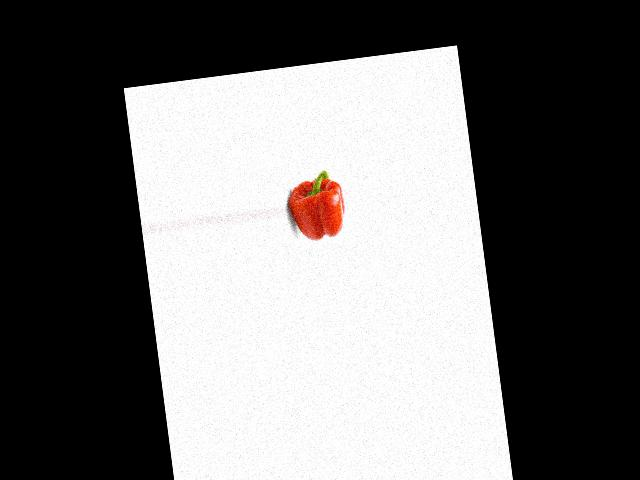bell_pepper: (285, 164, 349, 249)
